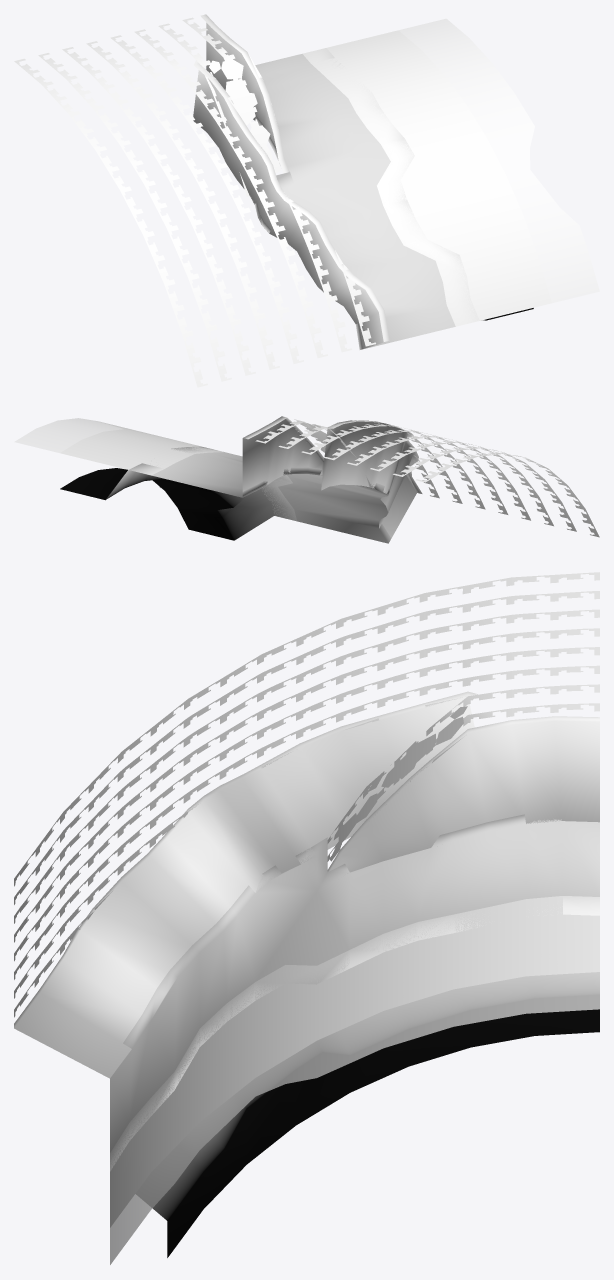
Rendered from grd_Me_S_2.dae.
3 renders of one model, top to bottom at view 1: azimuth 30°, elevation 25°; view 2: azimuth 150°, elevation 25°; view 3: azimuth 270°, elevation 25°, orthographic. The views are drawn at different scales.
Parts seen in each view (by area): view 1: grd_Me_S_2; view 2: grd_Me_S_2; view 3: grd_Me_S_2.
Part boxes in pixels (x1,y1,x2,y2): grd_Me_S_2: (14,14,599,387); grd_Me_S_2: (14,416,599,543); grd_Me_S_2: (14,572,599,1264).
Size of the model in its own units: 576 by 308 by 423.
7 materials, 1 textured.
